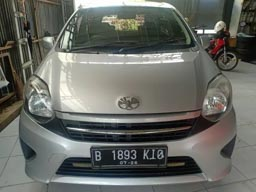plat: (91, 148, 166, 159)
